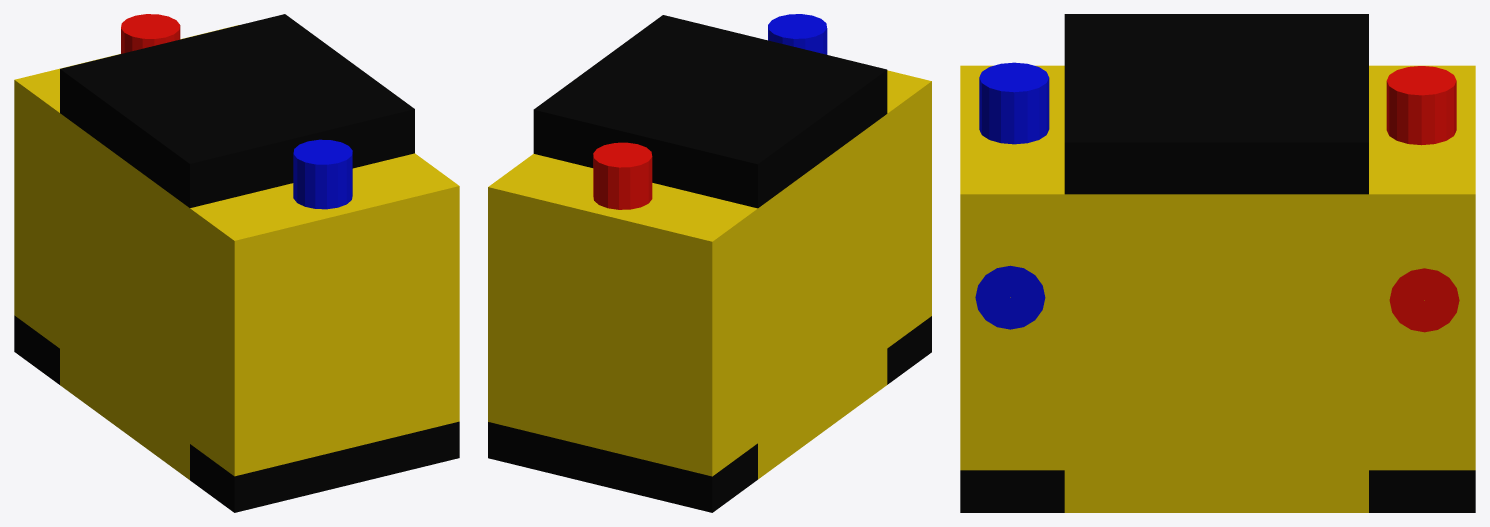
The model's file is battery.fbx.
3 renders of one model, left to right at view 1: azimuth 30°, elevation 25°; view 2: azimuth 150°, elevation 25°; view 3: azimuth 270°, elevation 25°, orthographic. The views are drawn at different scales.
Visible parts, largest first — view 1: Cube; view 2: Cube; view 3: Cube.
Boxes of the visible parts, x1,y1,x2,y2 form: Cube: [14, 14, 459, 512]; Cube: [488, 14, 931, 512]; Cube: [960, 14, 1475, 512].
Size of the model in its own units: 202 by 269 by 339.
